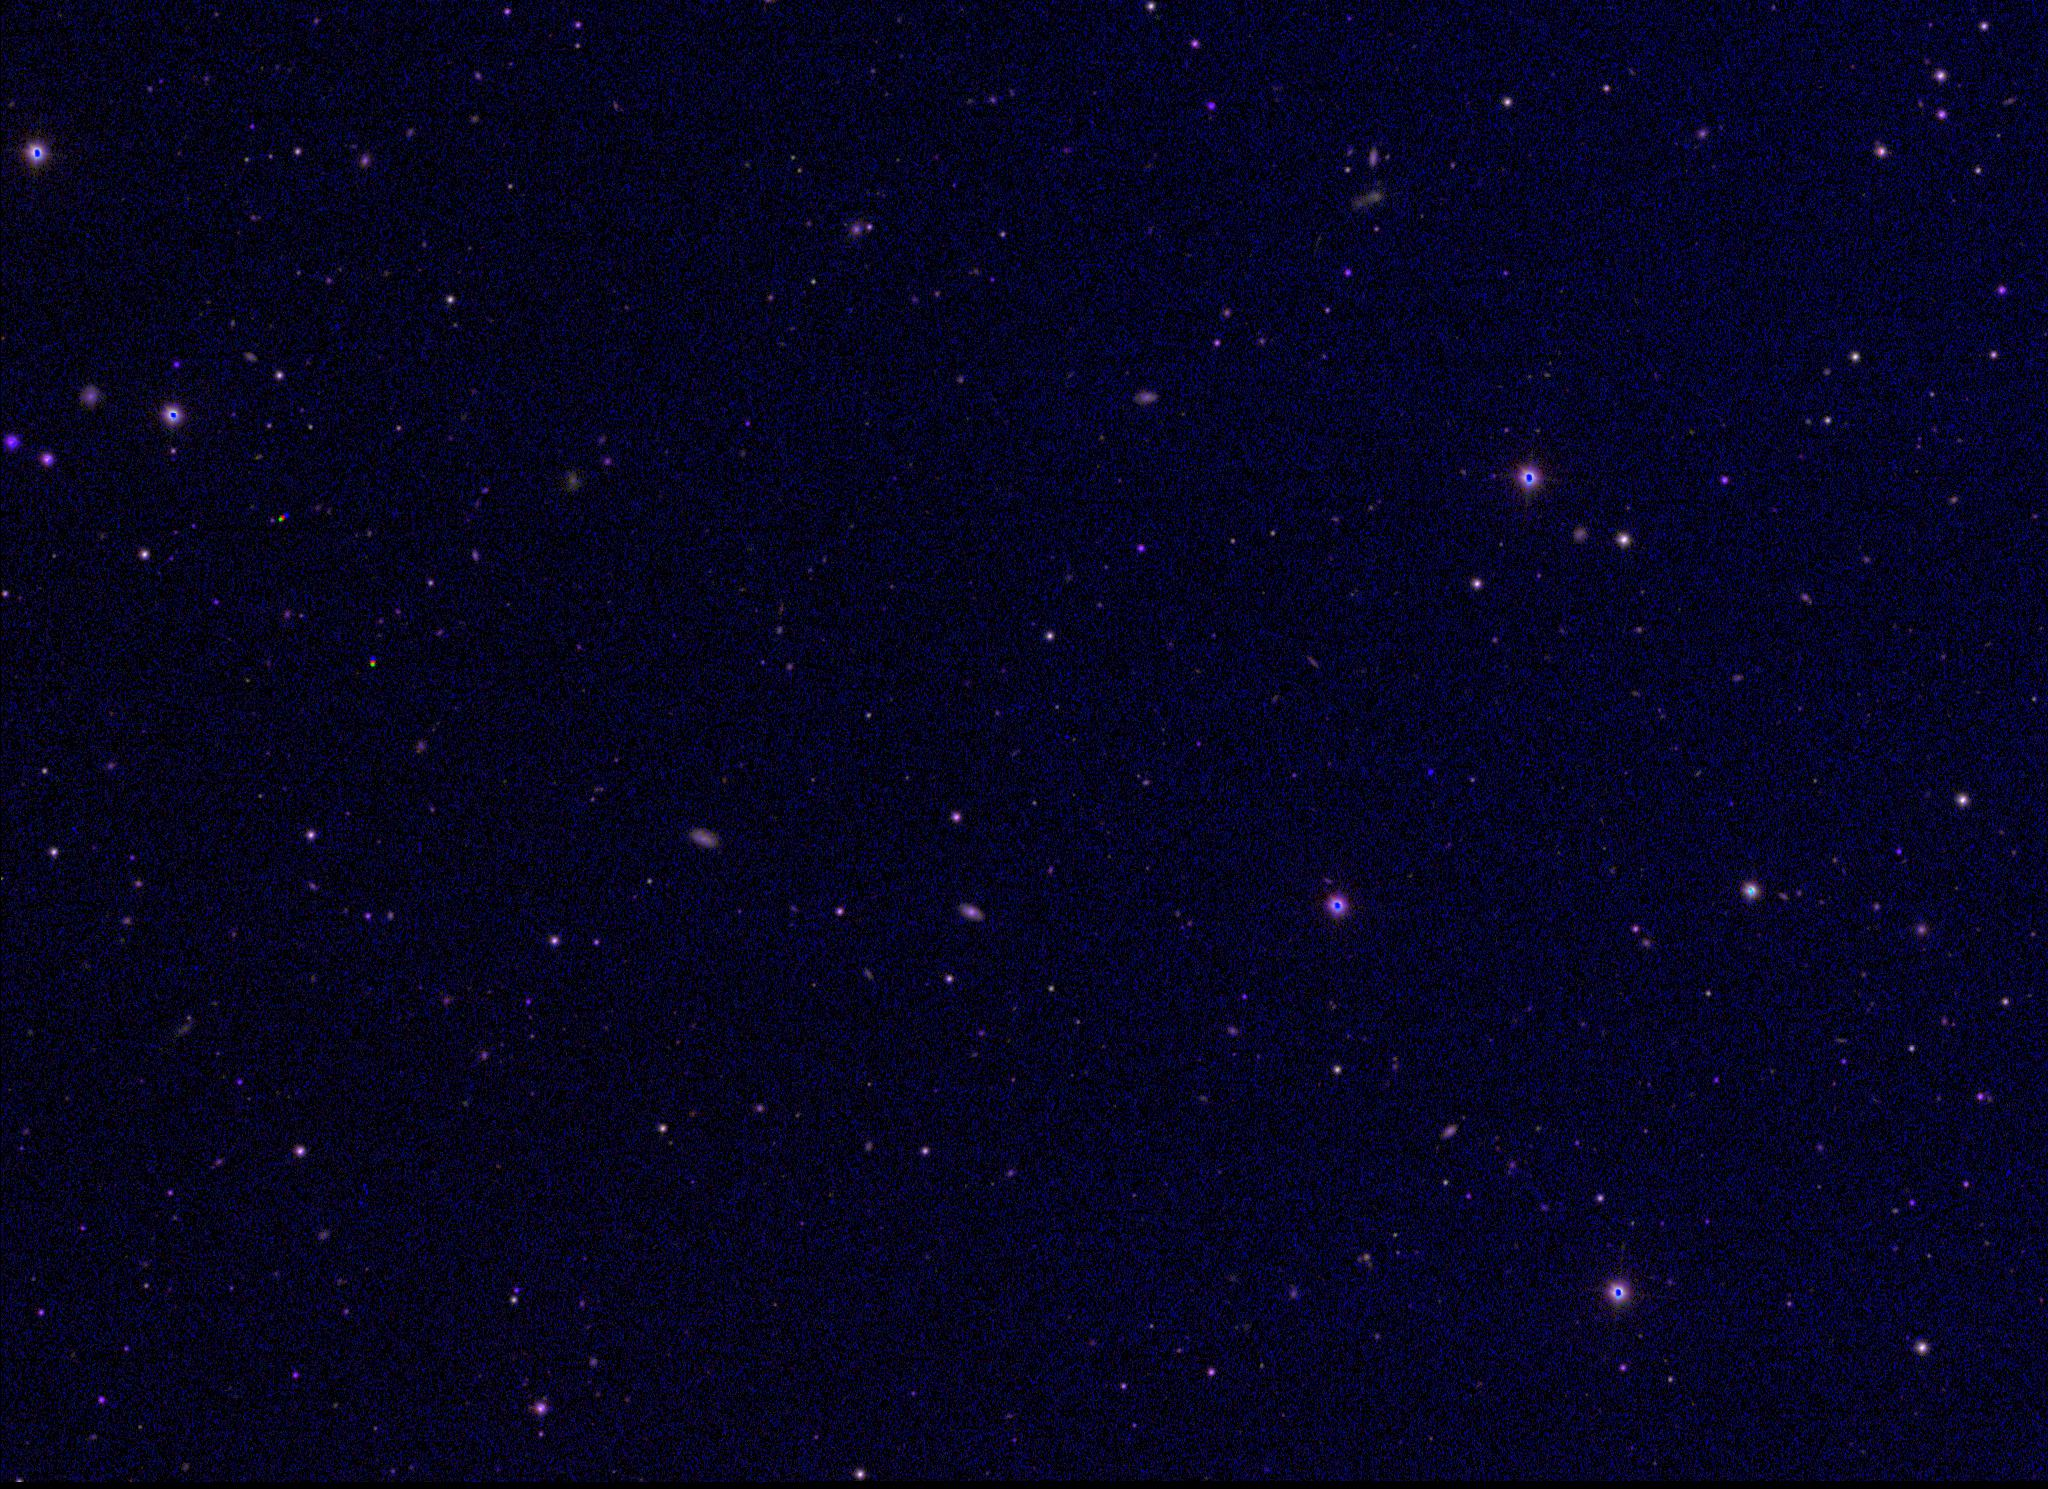L: (1425, 765, 1437, 779)
